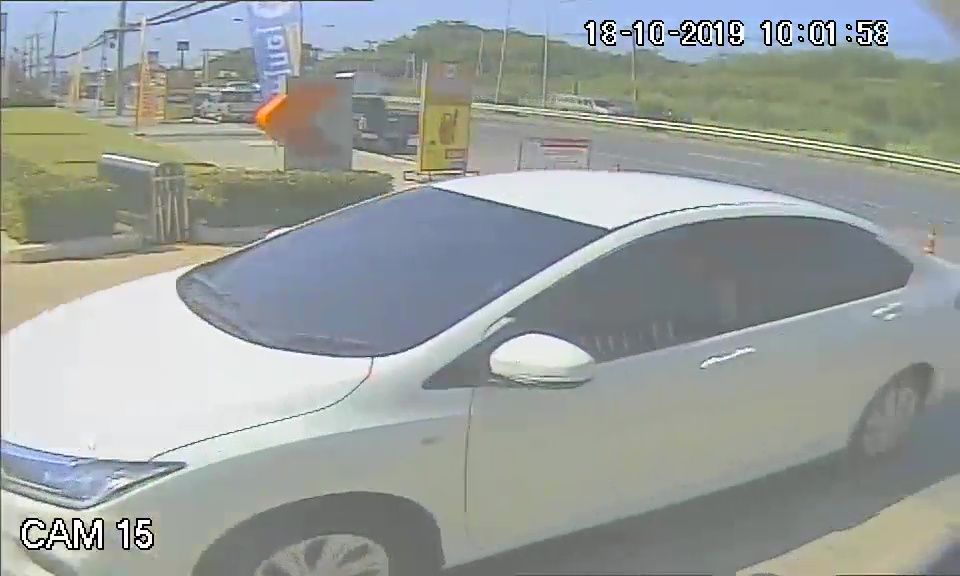sedan: (48, 168, 957, 534)
